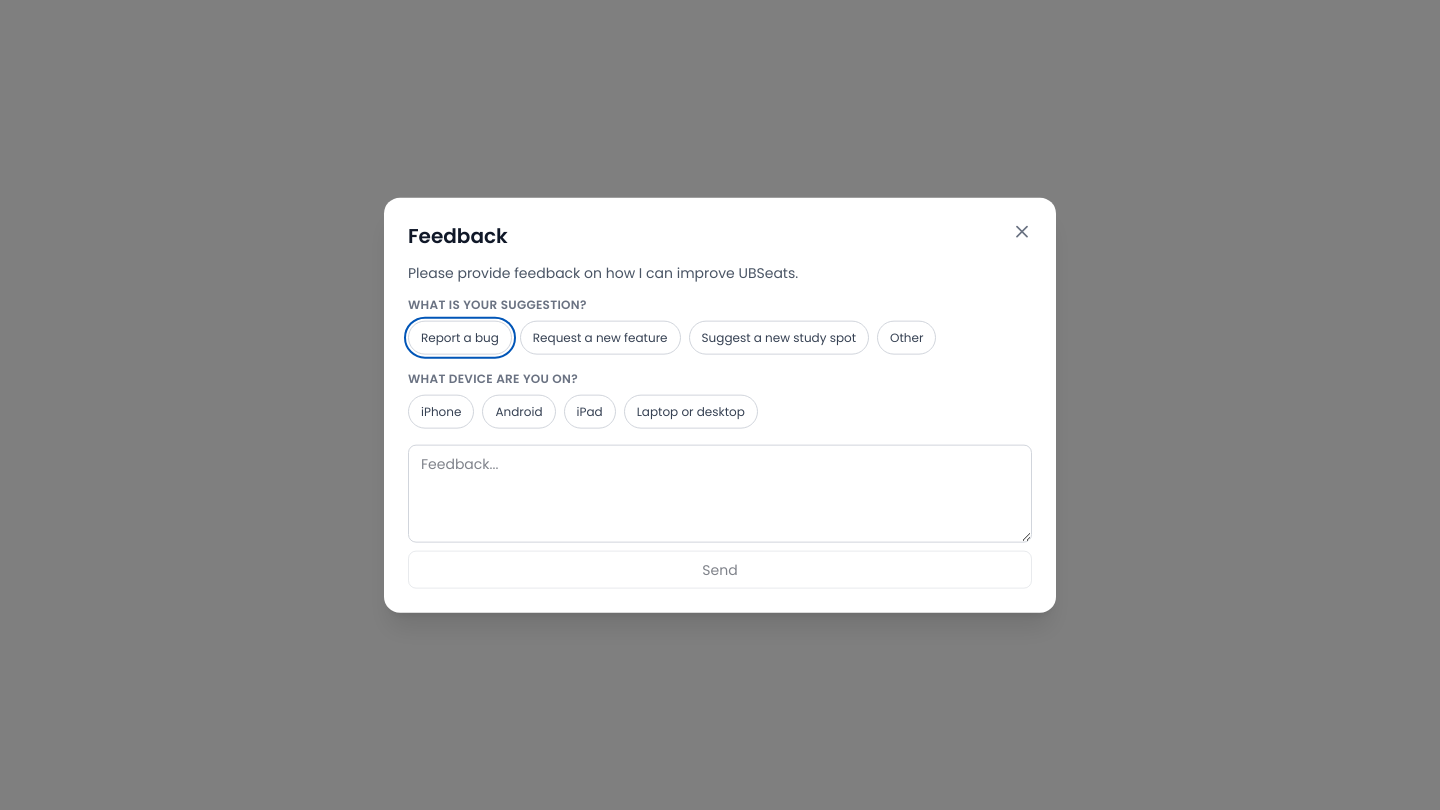
Scenario: FeedbackModal › enables Send once a category, a device and a message are filled in
Click the button "Report a bug": [460, 337] box [408,320,512,354]
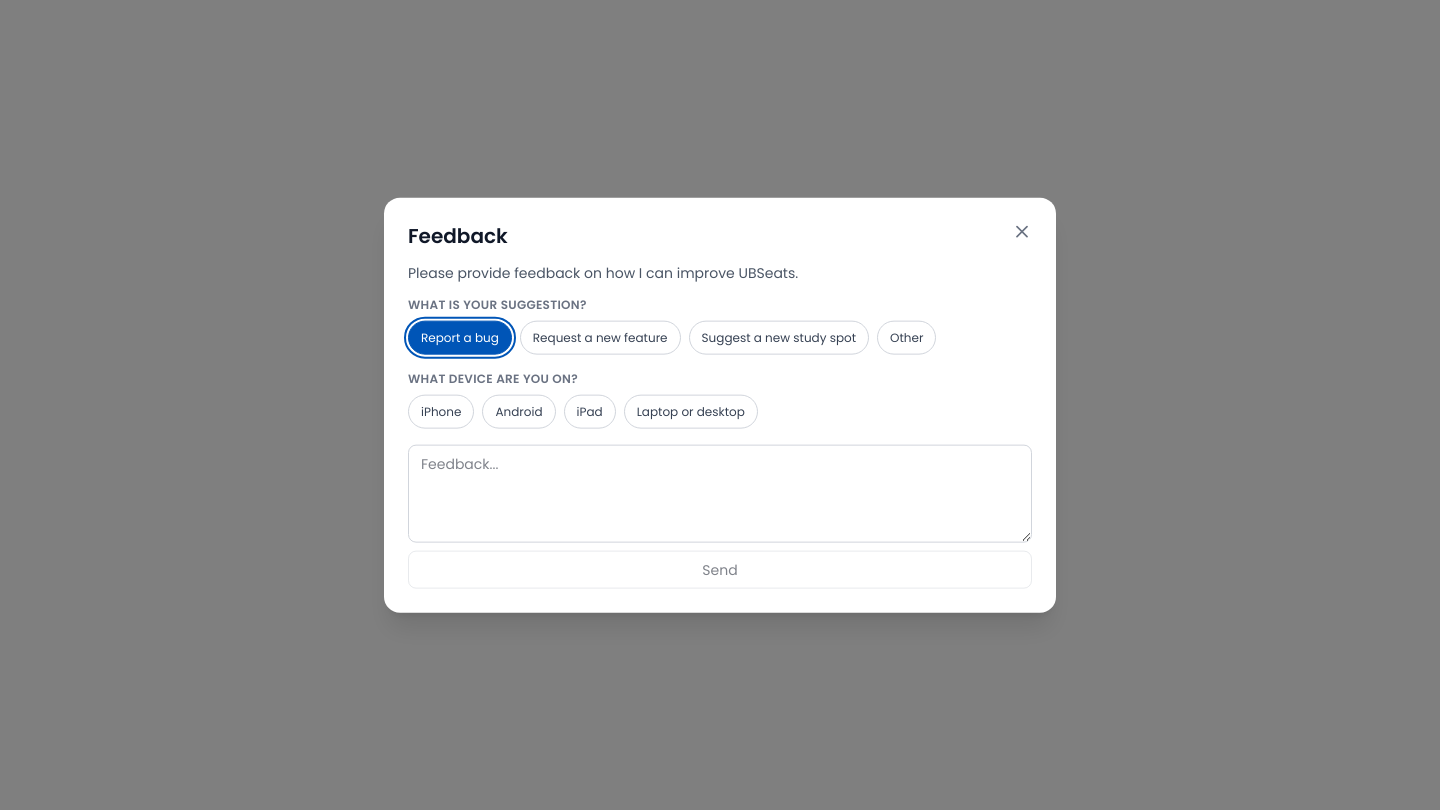
Click the button "Laptop or desktop": [691, 411] box [624,394,758,428]
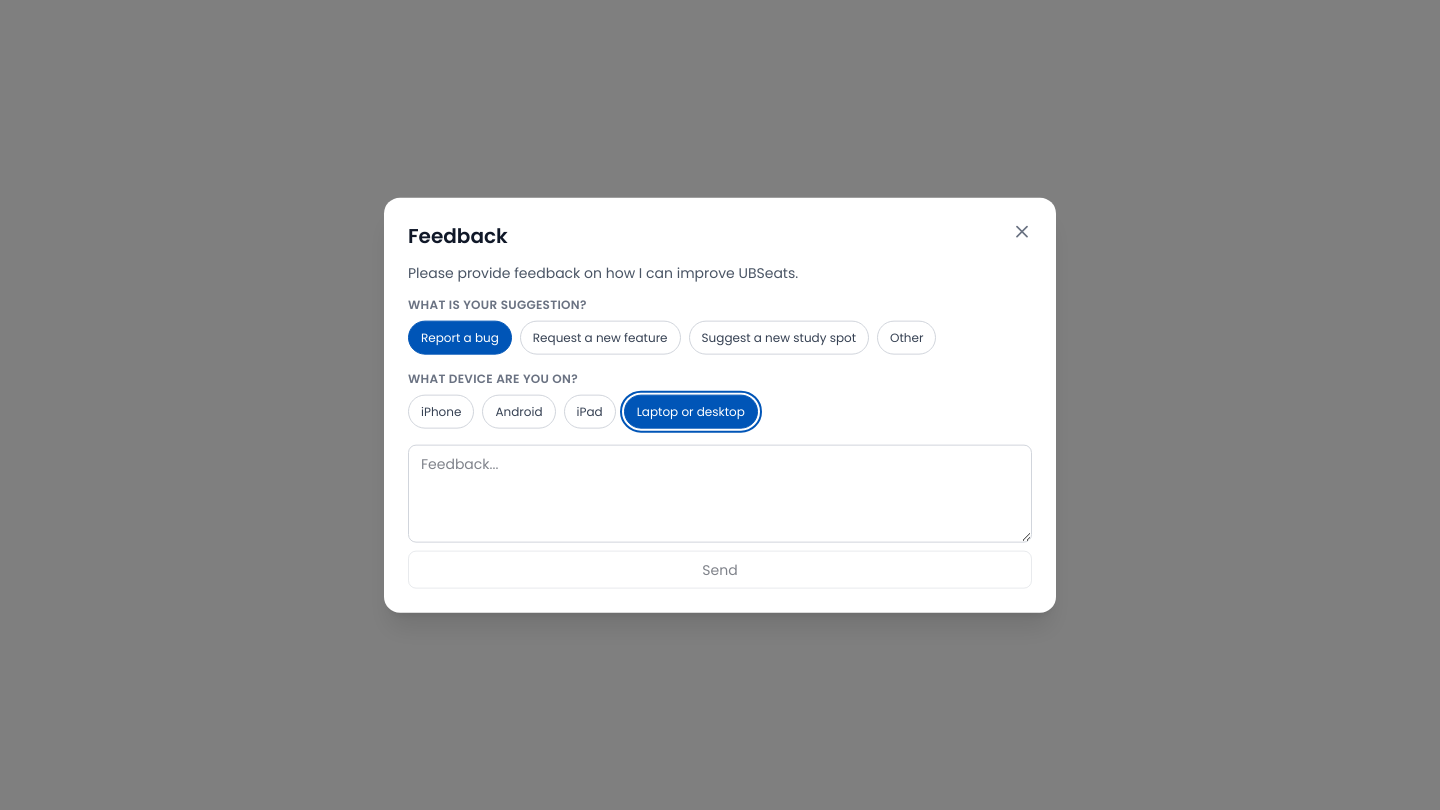
In the text box named "Feedback message": [720, 493] box [408,444,1032,542], type "  Map is slow  "
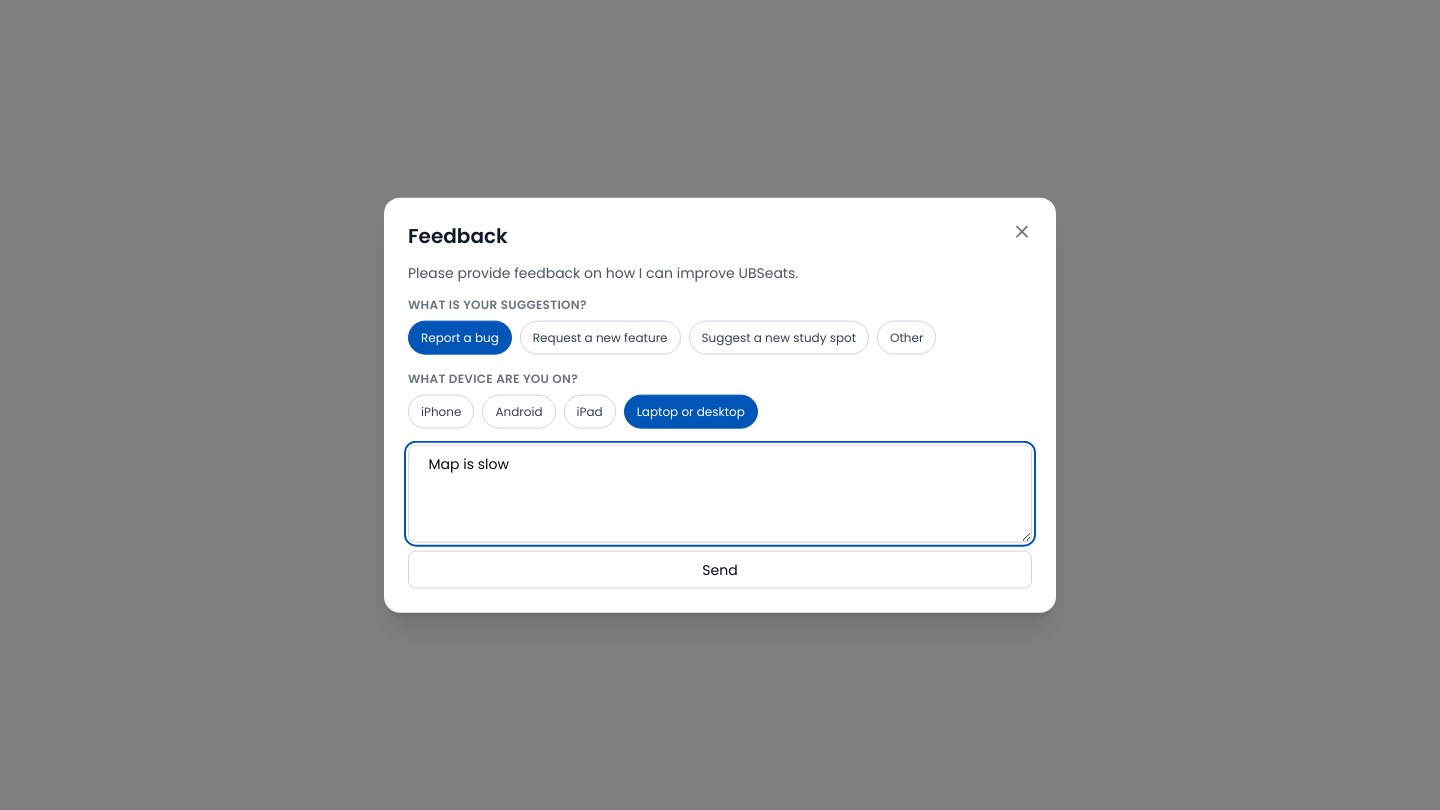
Check: the button "Send" is enabled, box [408,550,1032,588]
